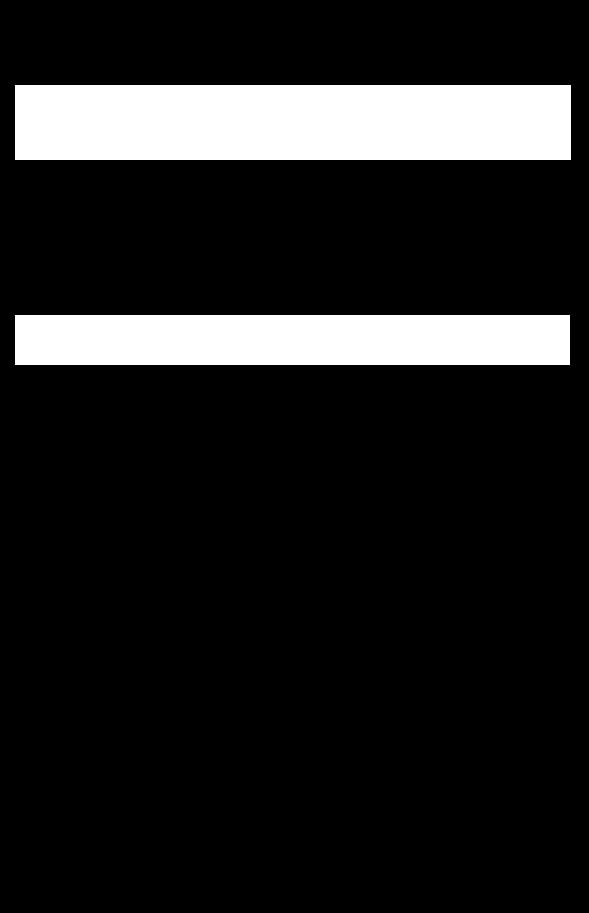table: (15, 85, 570, 159), (15, 315, 569, 364)
